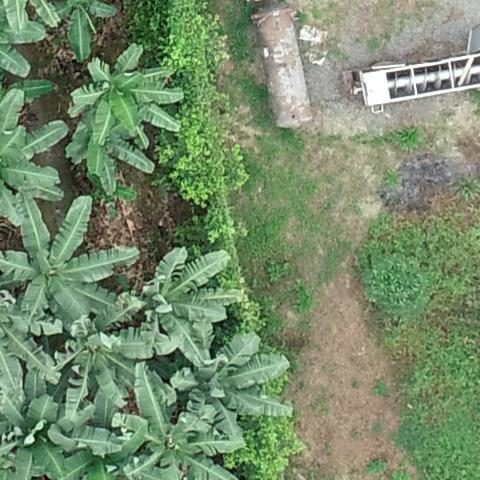Banana-plant: (0, 192, 133, 334), (102, 362, 244, 480), (170, 331, 299, 445), (67, 42, 185, 155), (131, 244, 247, 356), (0, 379, 117, 480), (2, 83, 66, 234), (59, 315, 157, 411), (65, 114, 164, 197), (35, 0, 117, 61)
